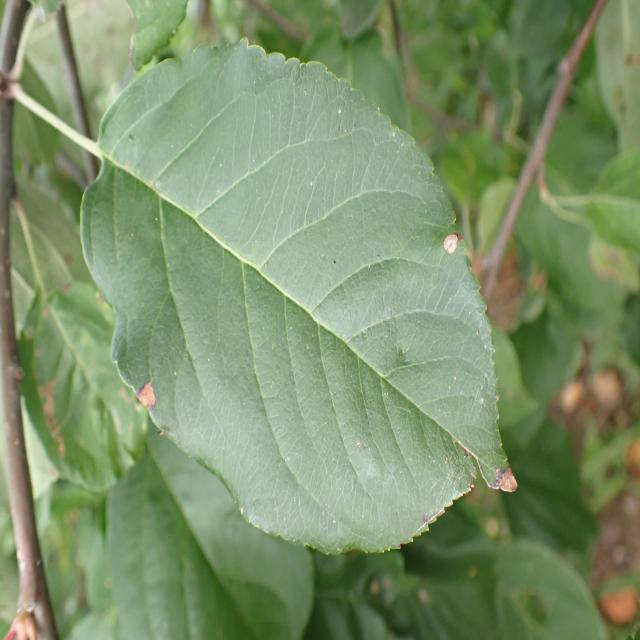frog-eye-leaf-spot: (80, 36, 520, 556)
